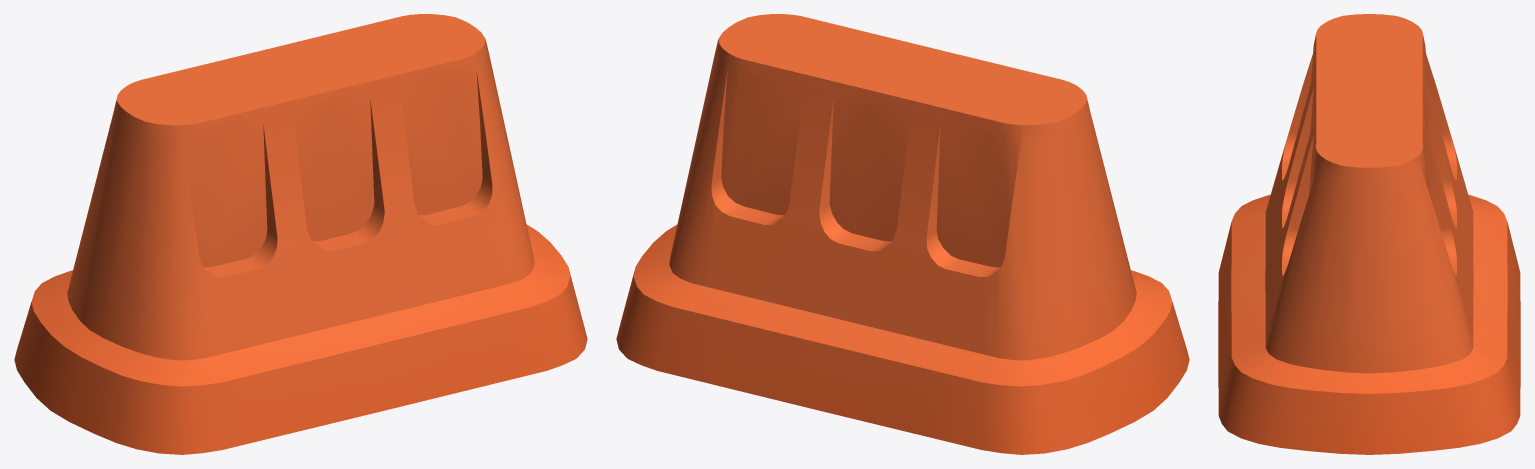
Rendered from Road Bar B.fbx.
3 renders of one model, left to right at view 1: azimuth 30°, elevation 25°; view 2: azimuth 150°, elevation 25°; view 3: azimuth 270°, elevation 25°, orthographic. The views are drawn at different scales.
Parts seen in each view (by area): view 1: Road Bar B; view 2: Road Bar B; view 3: Road Bar B.
Part boxes in pixels (bbox=[...]): Road Bar B: bbox=[14, 14, 587, 454]; Road Bar B: bbox=[616, 14, 1189, 454]; Road Bar B: bbox=[1218, 14, 1520, 454].
Bounding box in the file's own units: 122 × 65.33 × 70.68.
